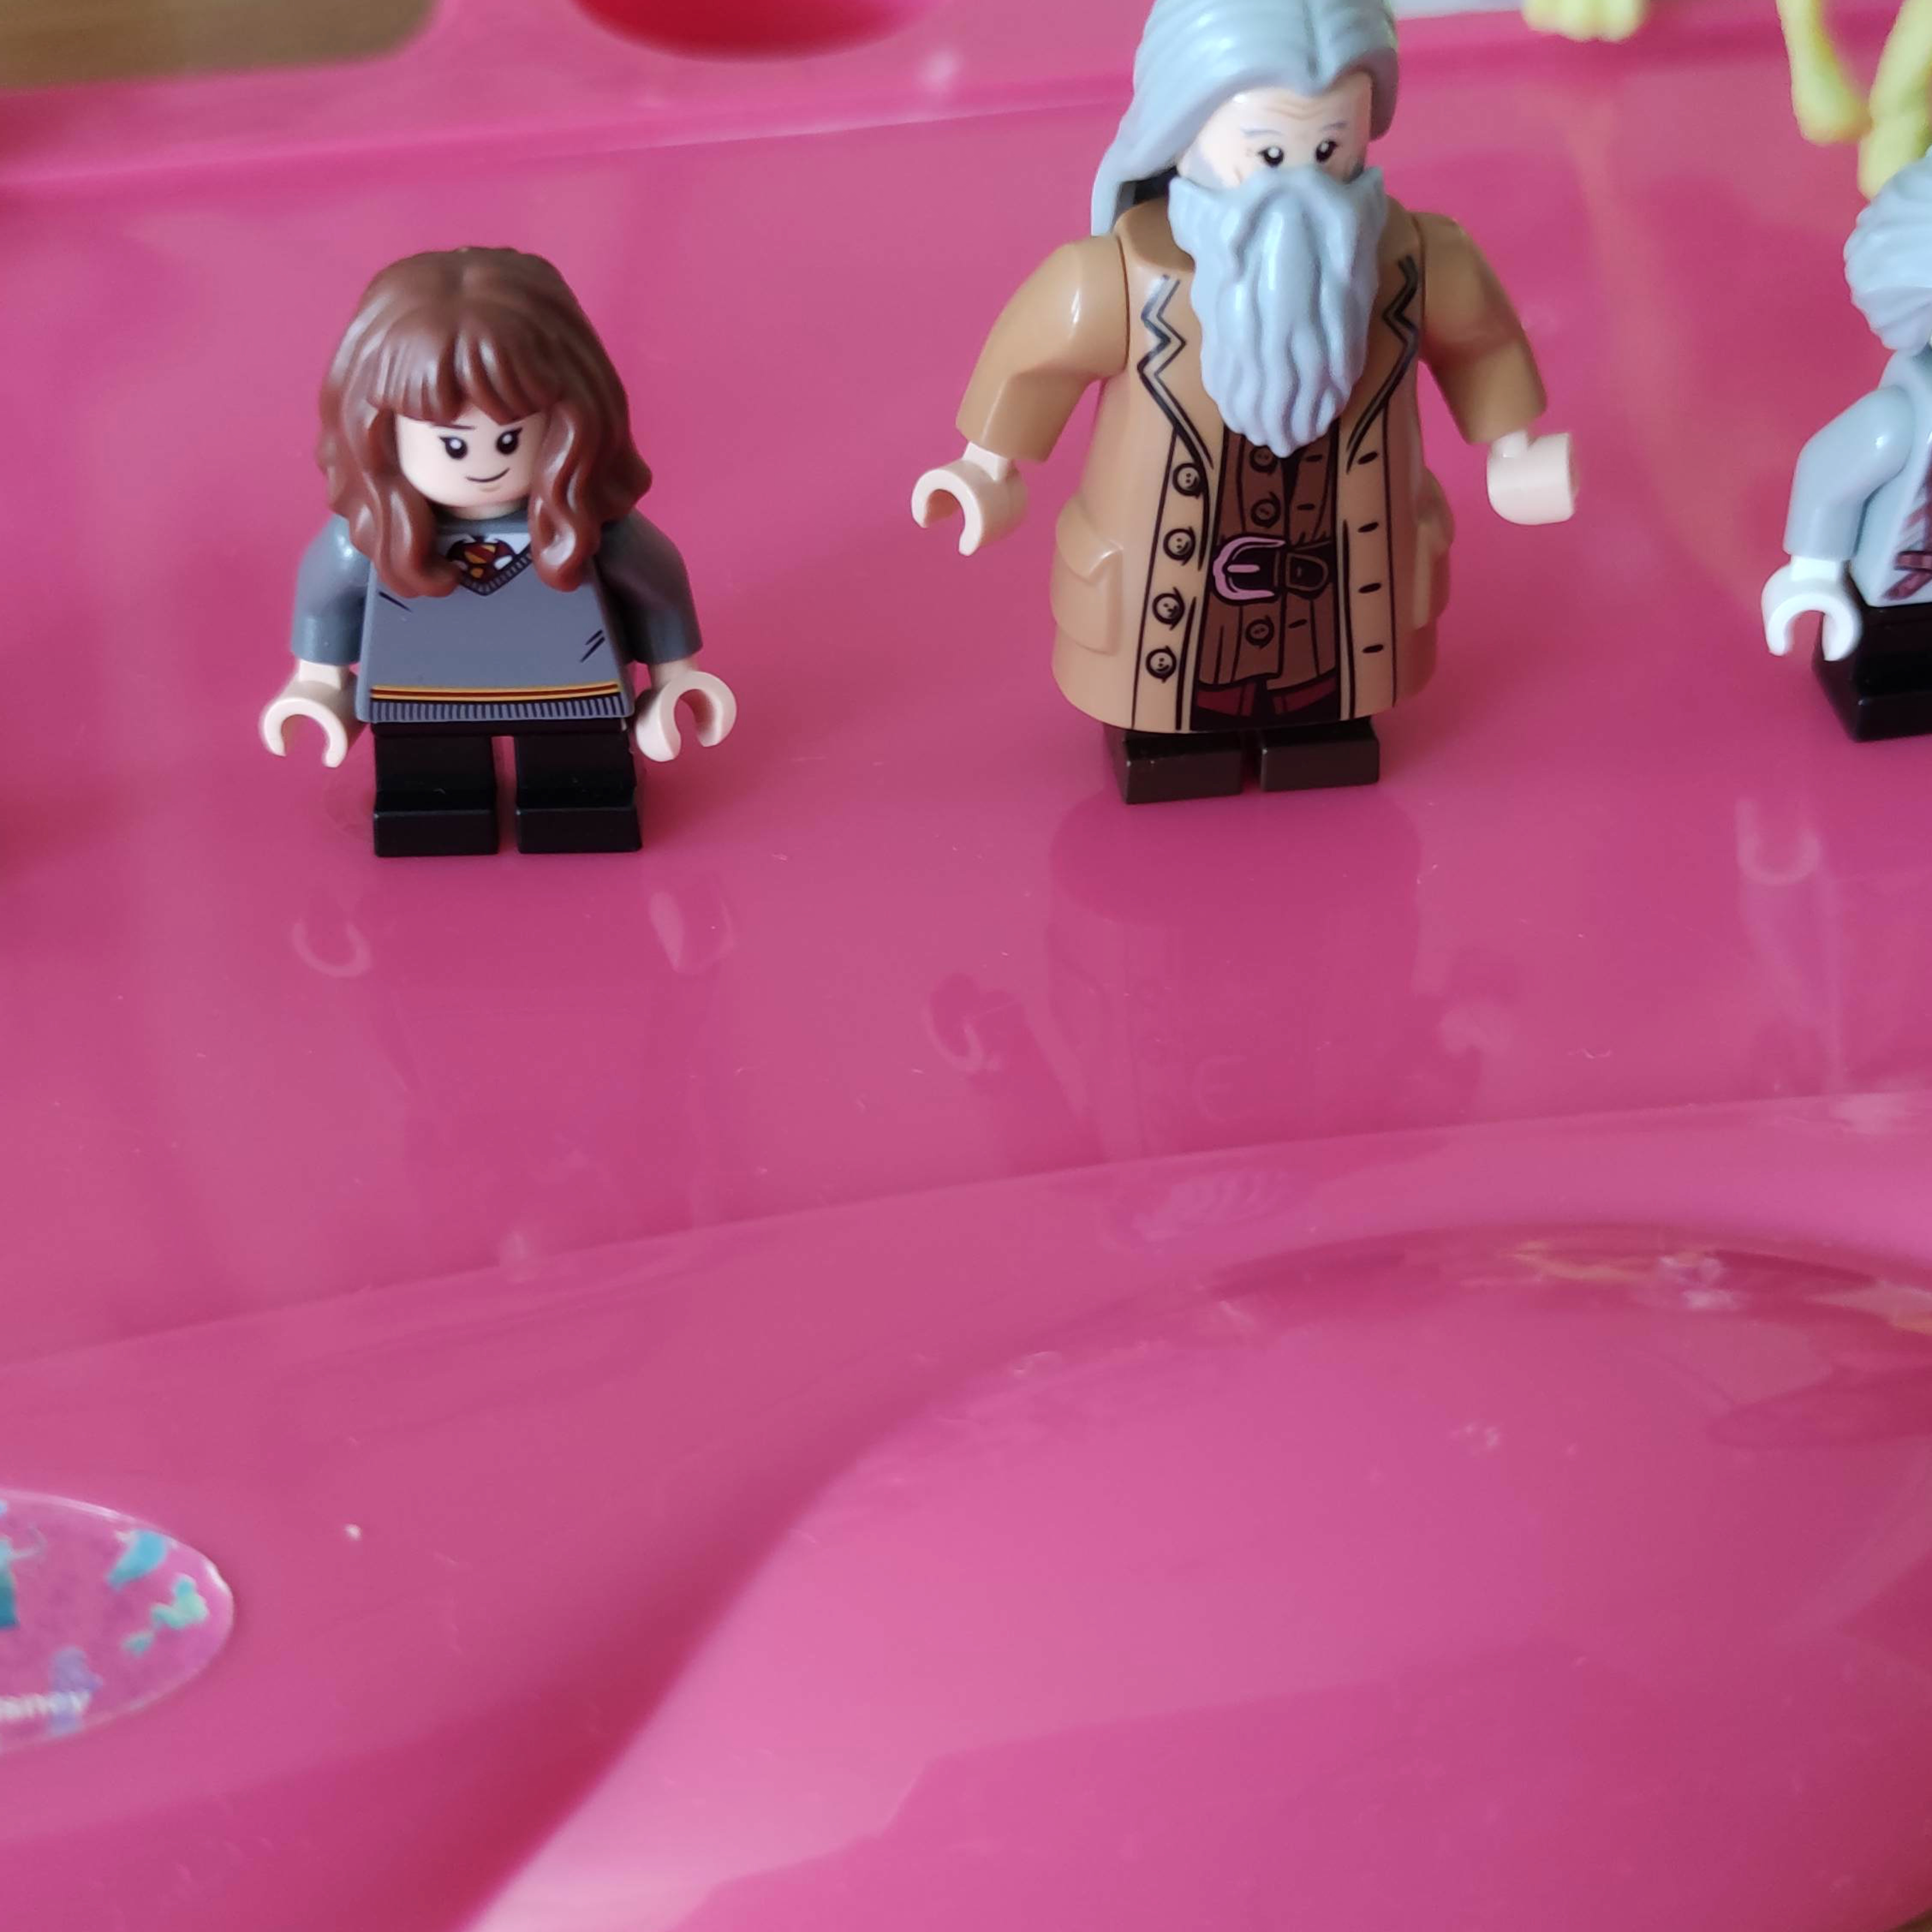lego: (911, 0, 1580, 796), (258, 248, 734, 865)
